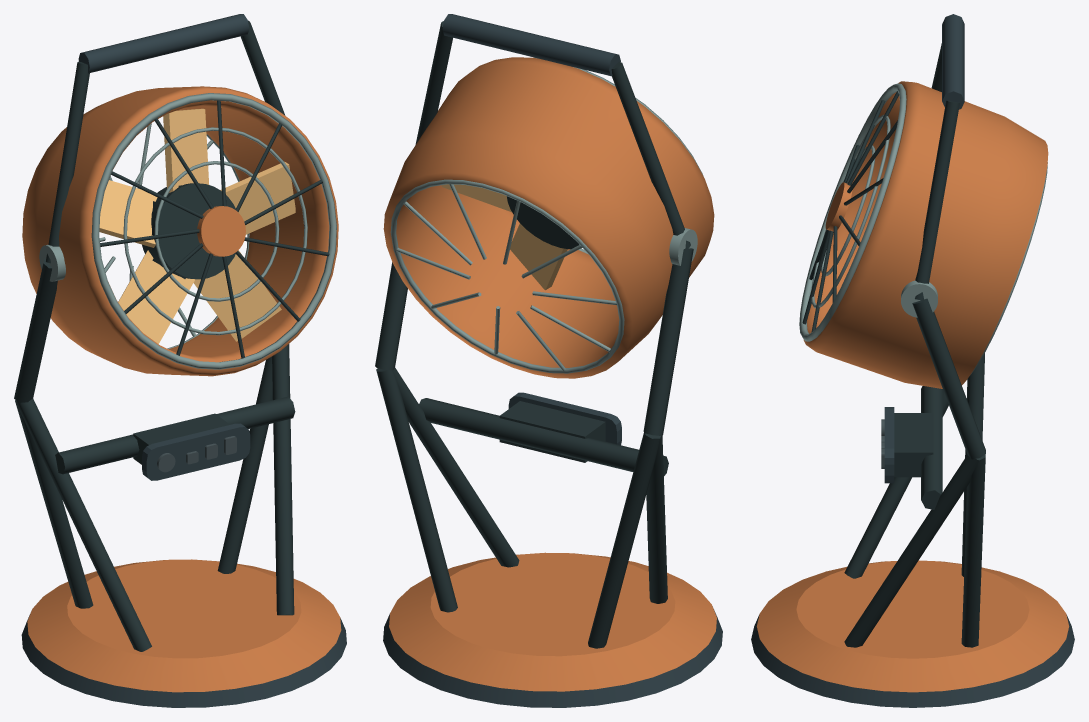
3 views of the same model, side by side, from view 1: azimuth 30°, elevation 25°; view 2: azimuth 150°, elevation 25°; view 3: azimuth 270°, elevation 25° (orthographic). The views are drawn at different scales.
Parts seen in each view (by area): view 1: duct-shell, base-shoulder, twin-yoke, fixed-grille-rings, weighted-foot, fixed-grille-spokes, rotor-hub, carry-grip, control-brace, control-bezel, rotor-blade-5, rotor-blade-4 (+7 smaller); view 2: duct-shell, base-shoulder, twin-yoke, rear-cage, weighted-foot, control-brace, carry-grip, control-mount, rotor-blade-5, control-bezel, rotor-hub, rotor-blade-1 (+1 smaller); view 3: duct-shell, base-shoulder, twin-yoke, weighted-foot, fixed-grille-rings, fixed-grille-spokes, control-mount, control-brace, carry-grip, control-bezel, pivot-caps, grille-medallion.
Boxes of the visible parts, x1=… form: duct-shell: x1=22, y1=86, x2=338, y2=376; base-shoulder: x1=27, y1=559, x2=341, y2=692; twin-yoke: x1=14, y1=20, x2=294, y2=651; fixed-grille-rings: x1=91, y1=93, x2=336, y2=369; weighted-foot: x1=21, y1=614, x2=346, y2=707; fixed-grille-spokes: x1=100, y1=100, x2=329, y2=358; rotor-hub: x1=142, y1=183, x2=235, y2=279; carry-grip: x1=78, y1=14, x2=249, y2=73; control-brace: x1=55, y1=396, x2=295, y2=474; control-bezel: x1=142, y1=423, x2=250, y2=480; rotor-blade-5: x1=193, y1=250, x2=281, y2=341; rotor-blade-4: x1=118, y1=250, x2=195, y2=343; duct-shell: x1=383, y1=57, x2=714, y2=378; base-shoulder: x1=389, y1=552, x2=716, y2=691; twin-yoke: x1=375, y1=21, x2=693, y2=648; rear-cage: x1=390, y1=179, x2=624, y2=373; weighted-foot: x1=383, y1=606, x2=722, y2=707; control-brace: x1=419, y1=398, x2=668, y2=475; carry-grip: x1=442, y1=14, x2=620, y2=76; control-mount: x1=499, y1=401, x2=605, y2=462; rotor-blade-5: x1=510, y1=223, x2=567, y2=290; control-bezel: x1=508, y1=392, x2=621, y2=445; rotor-hub: x1=507, y1=196, x2=579, y2=249; rotor-blade-1: x1=441, y1=184, x2=511, y2=212; duct-shell: x1=803, y1=81, x2=1048, y2=388; base-shoulder: x1=756, y1=560, x2=1069, y2=692; twin-yoke: x1=844, y1=43, x2=985, y2=647; weighted-foot: x1=751, y1=614, x2=1074, y2=707; fixed-grille-rings: x1=799, y1=83, x2=906, y2=341; fixed-grille-spokes: x1=802, y1=91, x2=899, y2=332; control-mount: x1=894, y1=413, x2=933, y2=477; control-brace: x1=921, y1=386, x2=942, y2=509; carry-grip: x1=942, y1=14, x2=964, y2=109; control-bezel: x1=884, y1=407, x2=894, y2=483; pivot-caps: x1=901, y1=280, x2=937, y2=317; grille-medallion: x1=825, y1=182, x2=852, y2=231.
Size of the model in its own units: 0.4 by 0.8 by 0.4.
